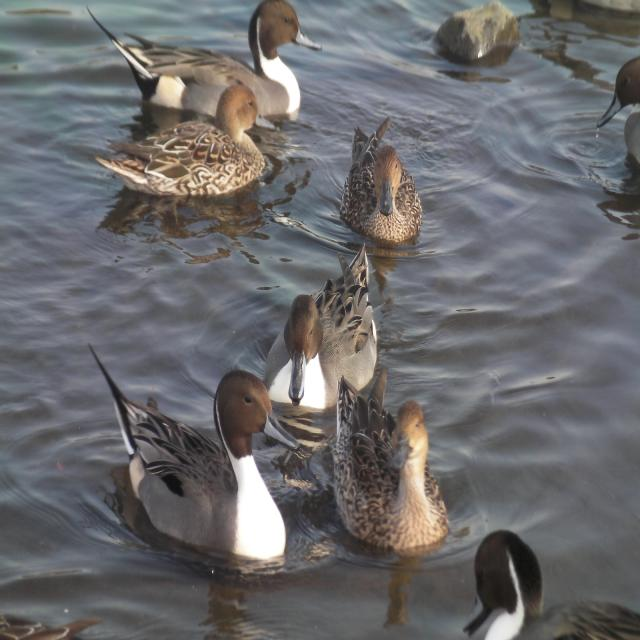bird: (90, 357, 290, 579), (83, 0, 321, 126), (88, 79, 271, 205), (326, 378, 459, 543), (468, 530, 640, 640), (275, 243, 377, 423), (344, 120, 424, 252), (603, 48, 640, 171)
